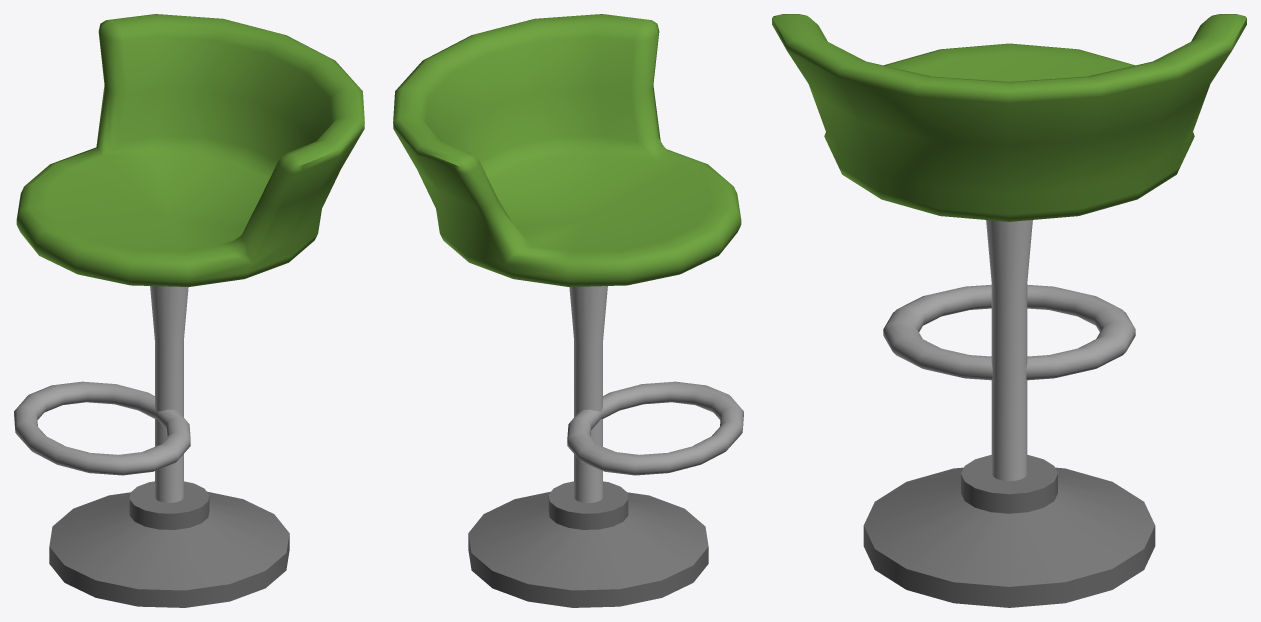
Rendered from Bar Chair03.fbx.
3 renders of one model, left to right at view 1: azimuth 30°, elevation 25°; view 2: azimuth 150°, elevation 25°; view 3: azimuth 270°, elevation 25°, orthographic. The views are drawn at different scales.
Parts seen in each view (by area): view 1: Bar Chair03; view 2: Bar Chair03; view 3: Bar Chair03.
Part boxes in pixels (<box>): Bar Chair03: <box>14,14,364,607</box>; Bar Chair03: <box>393,14,743,607</box>; Bar Chair03: <box>772,14,1246,607</box>.
Bounding box in the file's own units: 0.3793 × 0.4243 × 0.5445.
